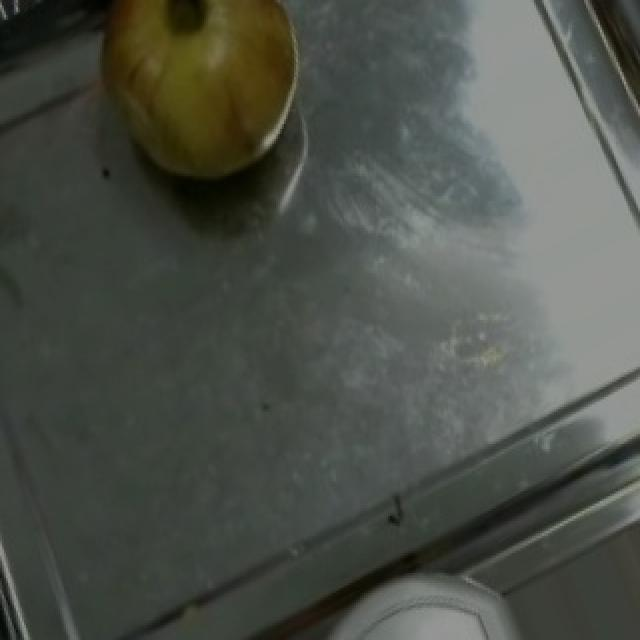fruit: (64, 0, 334, 208)
